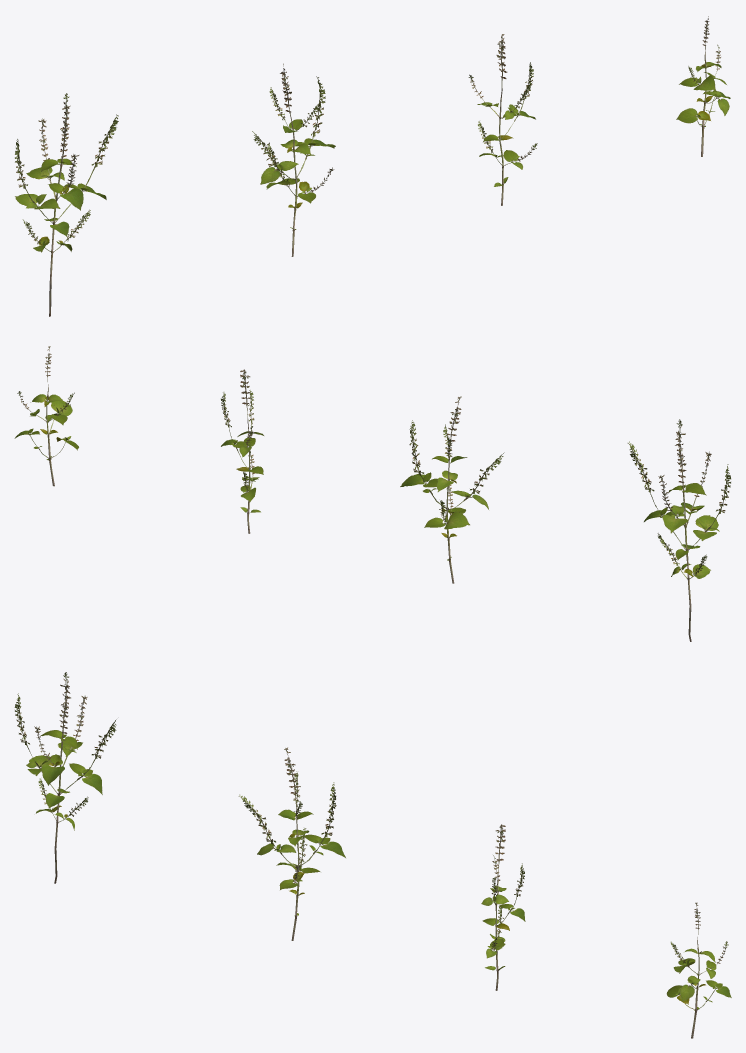
File: shrub_03.glb
The picture shows the model from 3 angles, top to bottom: view 1: azimuth 30°, elevation 25°; view 2: azimuth 150°, elevation 25°; view 3: azimuth 330°, elevation 25°; orthographic projection. The views are drawn at different scales.
Visible parts, largest first — view 1: shrub_03_a_LOD0, shrub_03_b_LOD0, shrub_03_c_LOD0, shrub_03_d_LOD0; view 2: shrub_03_a_LOD0, shrub_03_b_LOD0, shrub_03_c_LOD0, shrub_03_d_LOD0; view 3: shrub_03_a_LOD0, shrub_03_b_LOD0, shrub_03_d_LOD0, shrub_03_c_LOD0.
Boxes of the visible parts, left/top/right/bottom form: shrub_03_a_LOD0: left=15, top=93, right=118, bottom=316; shrub_03_b_LOD0: left=252, top=63, right=335, bottom=256; shrub_03_c_LOD0: left=468, top=34, right=537, bottom=205; shrub_03_d_LOD0: left=676, top=16, right=730, bottom=156; shrub_03_a_LOD0: left=627, top=419, right=730, bottom=641; shrub_03_b_LOD0: left=400, top=396, right=504, bottom=583; shrub_03_c_LOD0: left=221, top=369, right=263, bottom=533; shrub_03_d_LOD0: left=14, top=346, right=78, bottom=486; shrub_03_a_LOD0: left=14, top=672, right=116, bottom=883; shrub_03_b_LOD0: left=238, top=747, right=345, bottom=940; shrub_03_d_LOD0: left=666, top=902, right=731, bottom=1038; shrub_03_c_LOD0: left=481, top=824, right=525, bottom=990.
Size of the model in its own units: 1.37 by 0.4028 by 0.1512.
1 material, 1 textured.
